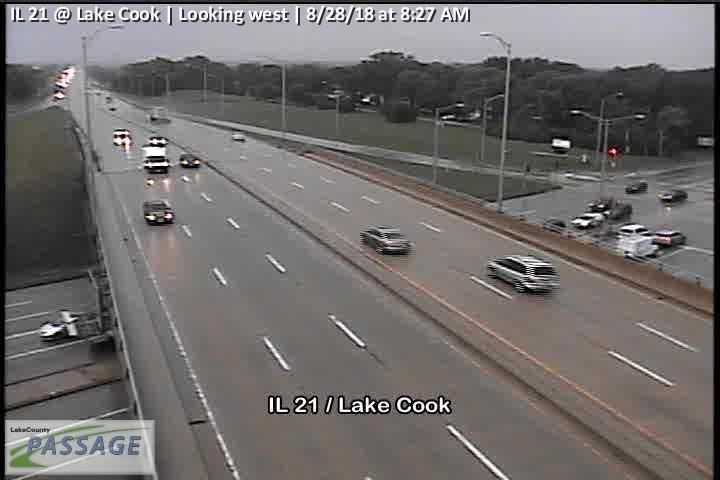SUV: (486, 254, 561, 293), (142, 199, 174, 225), (140, 146, 169, 173), (654, 228, 687, 248), (572, 211, 605, 229), (618, 224, 652, 238)
Sedan: (360, 225, 411, 254), (658, 188, 688, 202), (624, 179, 648, 193), (180, 153, 200, 168)
